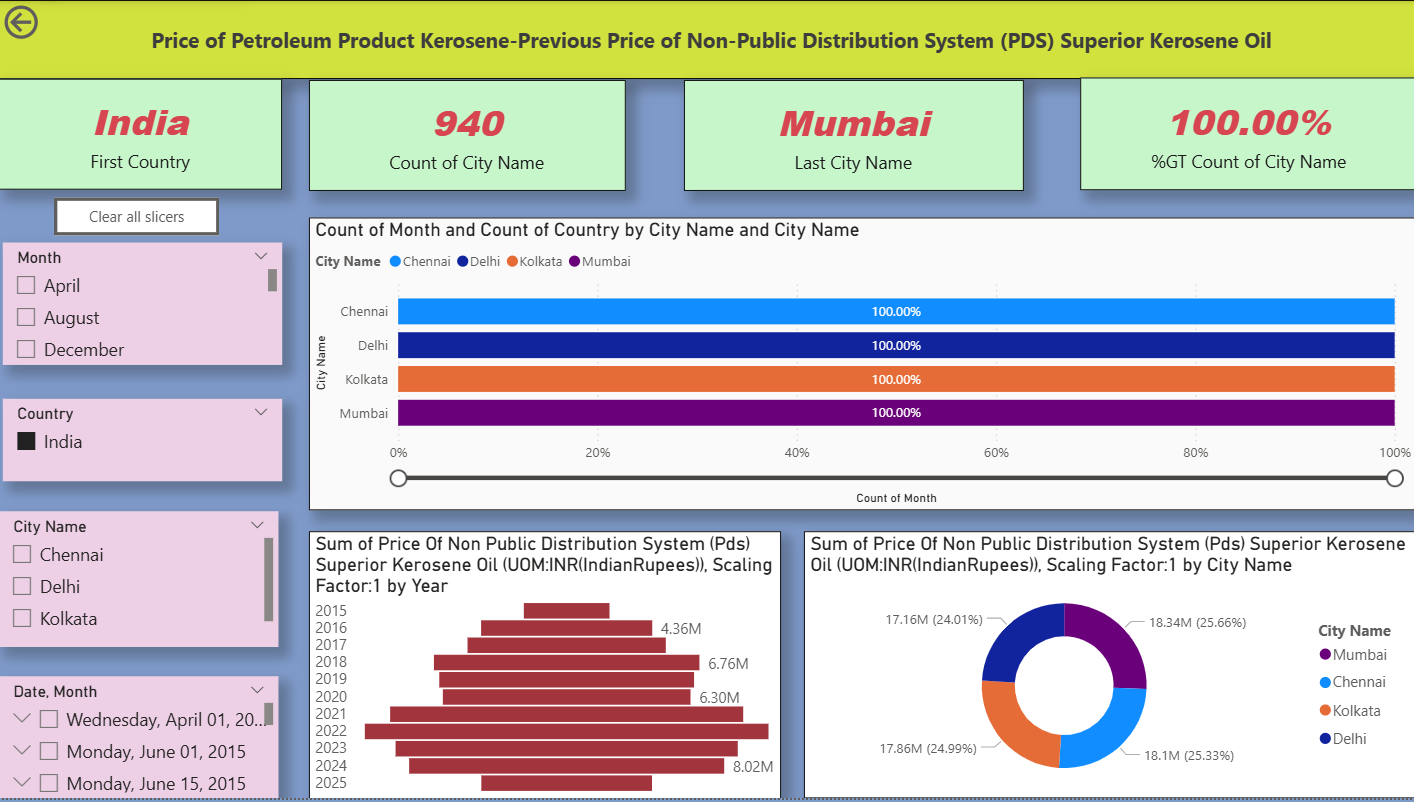

The page's visual inventory and layout, read from the dashboard file:
{"tool":"powerbi","page":{"name":"Page 1","canvas":[1280,720],"ordinal":0},"visuals":[{"type":"textbox","box":[0,0,1280.3,70.9],"z":0},{"type":"card","fields":{"Values":["Min(lingeswarreddy090_1773325880840.Country)"]},"box":[0,71.4,255.2,100.2],"z":1000},{"type":"card","fields":{"Values":["CountNonNull(lingeswarreddy090_1773325880840.City Name)"]},"box":[279.7,72.3,285.2,100.2],"z":2000},{"type":"actionButton","box":[0,0,100,40],"z":3000},{"type":"card","fields":{"Values":["Max(lingeswarreddy090_1773325880840.City Name)"]},"box":[617.7,72.3,306.1,100.2],"z":4000},{"type":"card","fields":{"Values":["Min(lingeswarreddy090_1773325880840.City Name)"]},"box":[975.3,69.6,304.7,101.6],"z":5000},{"type":"hundredPercentStackedBarChart","fields":{"Category":["lingeswarreddy090_1773325880840.City Name","lingeswarreddy090_1773325880840.Date.Variation.Date Hierarchy.Year"],"Y":["CountNonNull(lingeswarreddy090_1773325880840.Month)"],"Series":["lingeswarreddy090_1773325880840.City Name"]},"box":[279.7,196.2,1000.3,264.3],"z":6000},{"type":"funnel","fields":{"Category":["lingeswarreddy090_1773325880840.Date.Variation.Date Hierarchy.Year","lingeswarreddy090_1773325880840.Date.Variation.Date Hierarchy.Month"],"Y":["Sum(lingeswarreddy090_1773325880840.Price Of Non Public Distribution System (Pds) Superior Kerosene Oil (UOM:INR(IndianR"]},"box":[279.7,478.6,425.7,242.1],"z":8000},{"type":"slicer","fields":{"Values":["lingeswarreddy090_1773325880840.Month"]},"box":[3.7,218.9,251.9,110.1],"z":9000},{"type":"slicer","fields":{"Values":["lingeswarreddy090_1773325880840.Country"]},"box":[3.7,359.5,251.9,74.6],"z":10000},{"type":"slicer","fields":{"Values":["lingeswarreddy090_1773325880840.City Name"]},"box":[0,461,251.9,122.3],"z":11000},{"type":"slicer","fields":{"Values":["lingeswarreddy090_1773325880840.Date","lingeswarreddy090_1773325880840.Month"]},"box":[0,610.2,251.9,110.1],"z":12000},{"type":"actionButton","box":[50.1,178.5,149.2,34.2],"z":13000},{"type":"actionButton","box":[1251,687.2,29.3,33],"z":14000},{"type":"donutChart","fields":{"Category":["lingeswarreddy090_1773325880840.City Name"],"Y":["Sum(lingeswarreddy090_1773325880840.Price Of Non Public Distribution System (Pds) Superior Kerosene Oil (UOM:INR(IndianR"]},"box":[726.4,479.4,553.9,240.9],"z":14001}]}

Visuals, with their boxes in screenshot pixels (x1, y1, x2, y2), scaled from the page's 1280x720 canvas onto the 1414x802 screenshot:
textbox: bbox=(0, 0, 1413, 79)
card - Min(lingeswarreddy090_1773325880840.Country): bbox=(0, 80, 282, 191)
card - CountNonNull(lingeswarreddy090_1773325880840.City Name): bbox=(309, 81, 624, 192)
actionButton: bbox=(0, 0, 110, 45)
card - Max(lingeswarreddy090_1773325880840.City Name): bbox=(682, 81, 1021, 192)
card - Min(lingeswarreddy090_1773325880840.City Name): bbox=(1077, 78, 1413, 191)
hundredPercentStackedBarChart - lingeswarreddy090_1773325880840.City Name x lingeswarreddy090_1773325880840.Date.Variation.Date Hierarchy.Year: bbox=(309, 219, 1413, 513)
funnel - lingeswarreddy090_1773325880840.Date.Variation.Date Hierarchy.Year x lingeswarreddy090_1773325880840.Date.Variation.Date Hierarchy.Month: bbox=(309, 533, 779, 801)
slicer - lingeswarreddy090_1773325880840.Month: bbox=(4, 244, 282, 366)
slicer - lingeswarreddy090_1773325880840.Country: bbox=(4, 400, 282, 484)
slicer - lingeswarreddy090_1773325880840.City Name: bbox=(0, 514, 278, 650)
slicer - lingeswarreddy090_1773325880840.Date x lingeswarreddy090_1773325880840.Month: bbox=(0, 680, 278, 801)
actionButton: bbox=(55, 199, 220, 237)
actionButton: bbox=(1382, 765, 1413, 801)
donutChart - lingeswarreddy090_1773325880840.City Name x Sum(lingeswarreddy090_1773325880840.Price Of Non Public Distribution System (Pds) Superior Kerosene Oil (UOM:INR(IndianR: bbox=(802, 534, 1413, 801)
